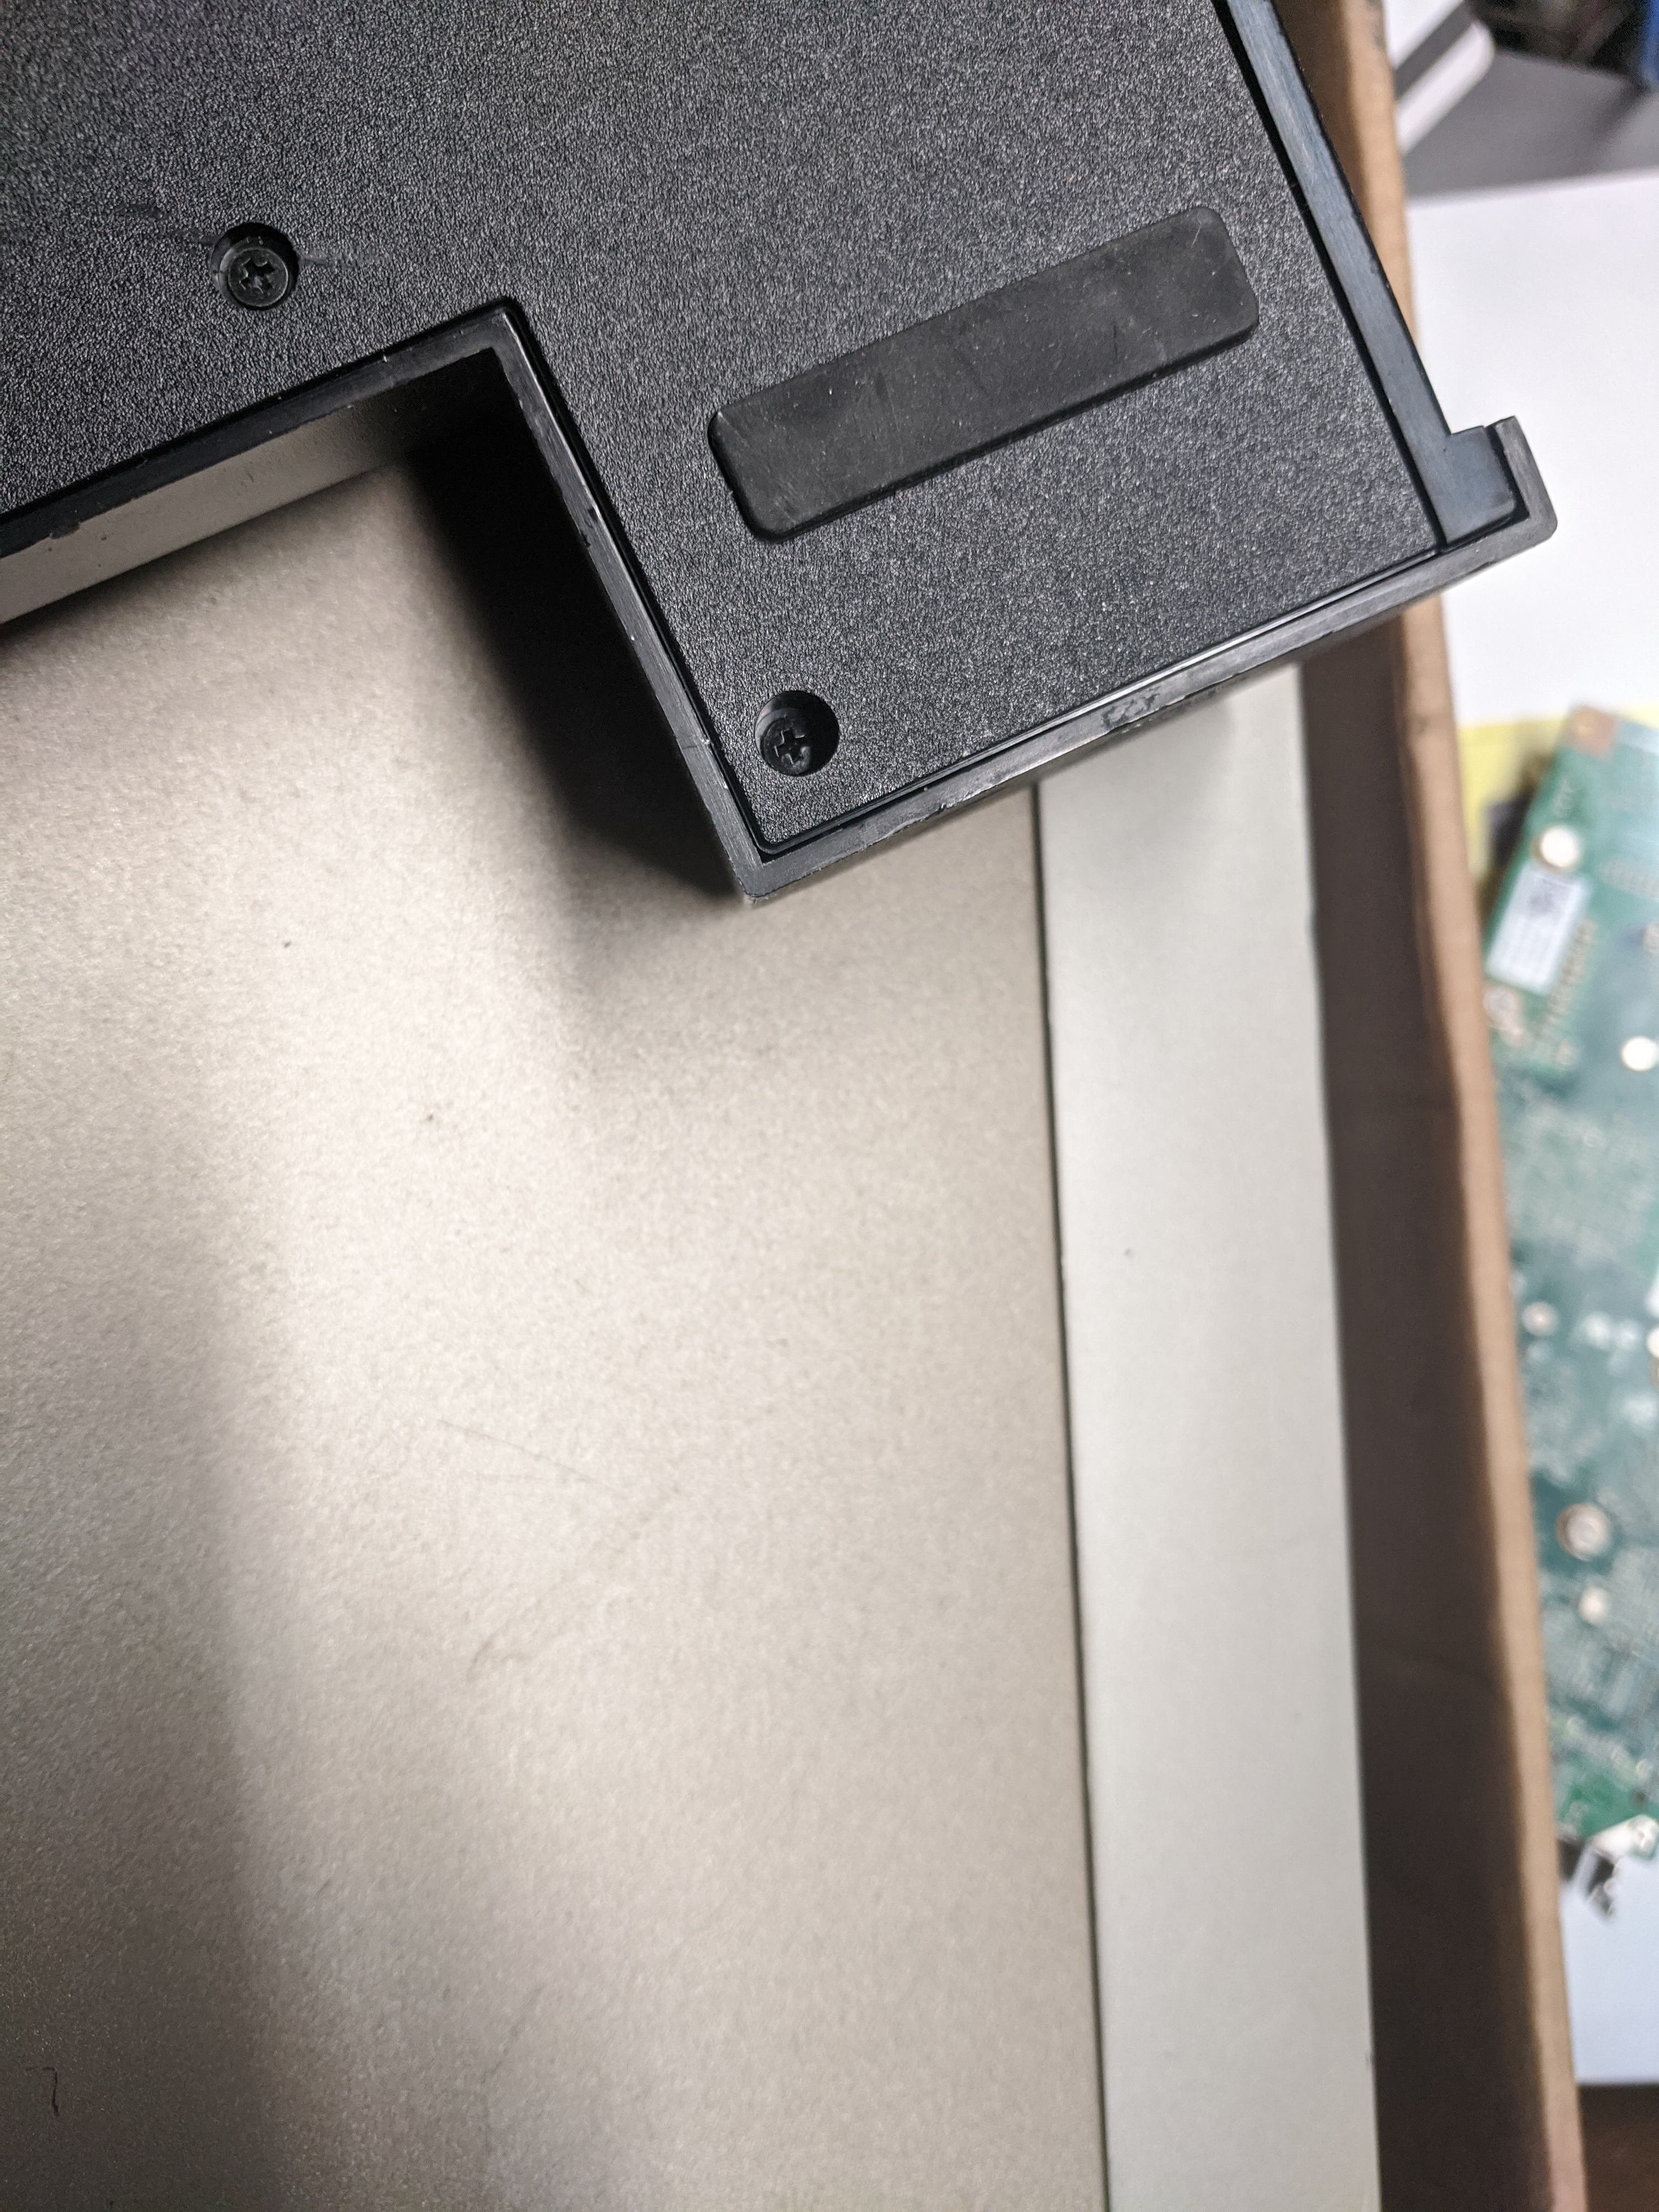cross_recessed_screw: (199, 211, 308, 314), (742, 683, 842, 786)
